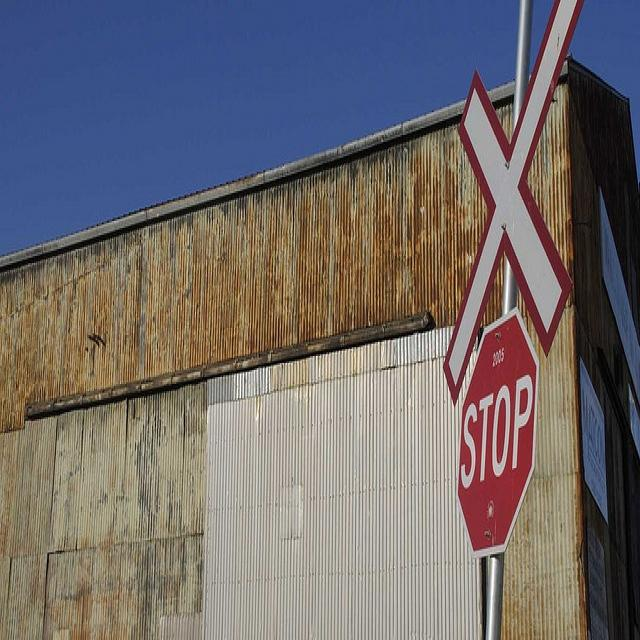pole: (479, 2, 535, 633)
